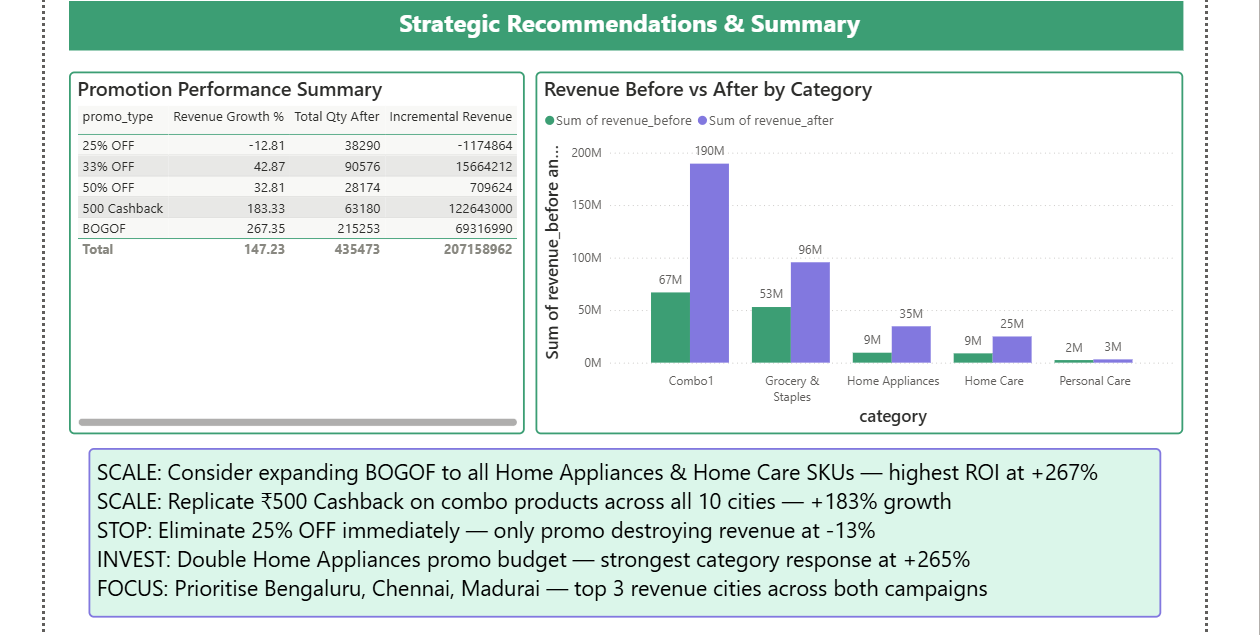

Layout of this report page (visuals, bound fields, positions):
{"tool":"powerbi","page":{"name":"Strategic Insights","canvas":[1280,720],"ordinal":3},"visuals":[{"type":"textbox","box":[26.5,13.3,1230.8,54.7],"z":0},{"type":"tableEx","title":"Promotion Performance Summary","fields":{"Values":["atliq_promotion_analysis_final.promo_type","atliq_promotion_analysis_final.Revenue Growth %","atliq_promotion_analysis_final.Total Qty After","atliq_promotion_analysis_final.Incremental Revenue"]},"box":[26.5,91.1,503.6,400.9],"z":1000},{"type":"clusteredColumnChart","title":" Revenue Before vs After by Category","fields":{"Category":["atliq_promotion_analysis_final.category"],"Y":["Sum(atliq_promotion_analysis_final.revenue_before)","Sum(atliq_promotion_analysis_final.revenue_after)"]},"box":[541.7,91.1,715.6,400.9],"z":2000},{"type":"textbox","box":[48,506.9,1184.4,187.2],"z":3000}]}

Visuals, with their boxes in screenshot pixels (x1, y1, x2, y2):
textbox: bbox=[67, 0, 1179, 48]
"Promotion Performance Summary" tableEx: bbox=[67, 69, 522, 432]
" Revenue Before vs After by Category" clusteredColumnChart: bbox=[532, 69, 1179, 432]
textbox: bbox=[86, 445, 1157, 614]
